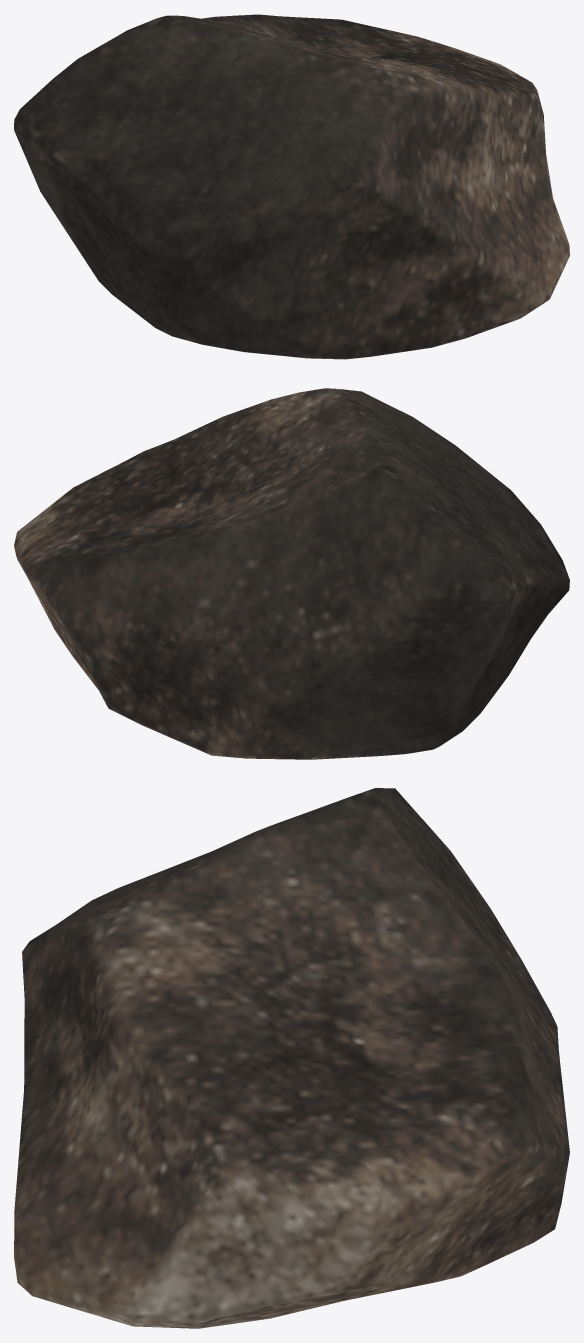
The model's file is SM_RP_Rock_2m_3.glb.
3 views of the same model, one above another, from view 1: azimuth 30°, elevation 25°; view 2: azimuth 150°, elevation 25°; view 3: azimuth 270°, elevation 25° (orthographic). The views are drawn at different scales.
Parts seen in each view (by area): view 1: SM_RP_Rock_2m_3; view 2: SM_RP_Rock_2m_3; view 3: SM_RP_Rock_2m_3.
Part boxes in pixels (bbox=[...]): SM_RP_Rock_2m_3: bbox=[14, 14, 569, 359]; SM_RP_Rock_2m_3: bbox=[14, 388, 569, 759]; SM_RP_Rock_2m_3: bbox=[14, 788, 569, 1328].
Size of the model in its own units: 3.6 by 2.1 by 2.67.
Materials: 1 (1 with a texture image).
